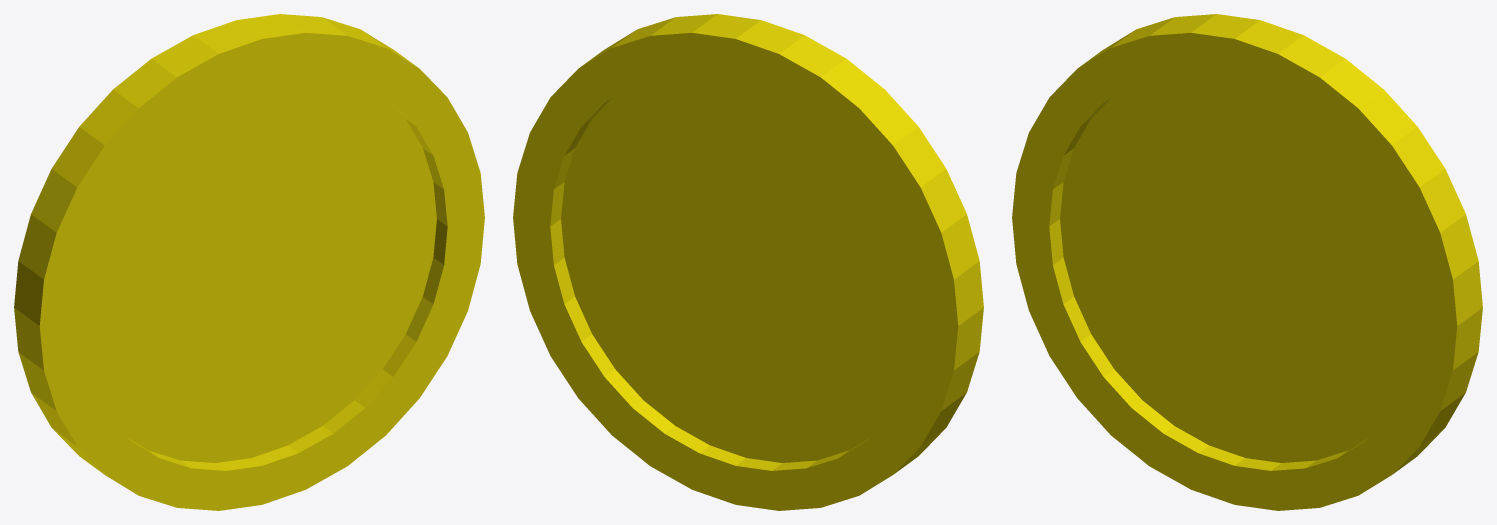
The model's file is Coin.fbx.
3 renders of one model, left to right at view 1: azimuth 30°, elevation 25°; view 2: azimuth 150°, elevation 25°; view 3: azimuth 330°, elevation 25°, orthographic.
Parts seen in each view (by area): view 1: Cylinder; view 2: Cylinder; view 3: Cylinder.
Part boxes in pixels (x1,y1,x2,y2): Cylinder: (14,14,484,510); Cylinder: (513,14,983,510); Cylinder: (1012,14,1482,510).
Bounding box in the file's own units: 120 × 120 × 12.
